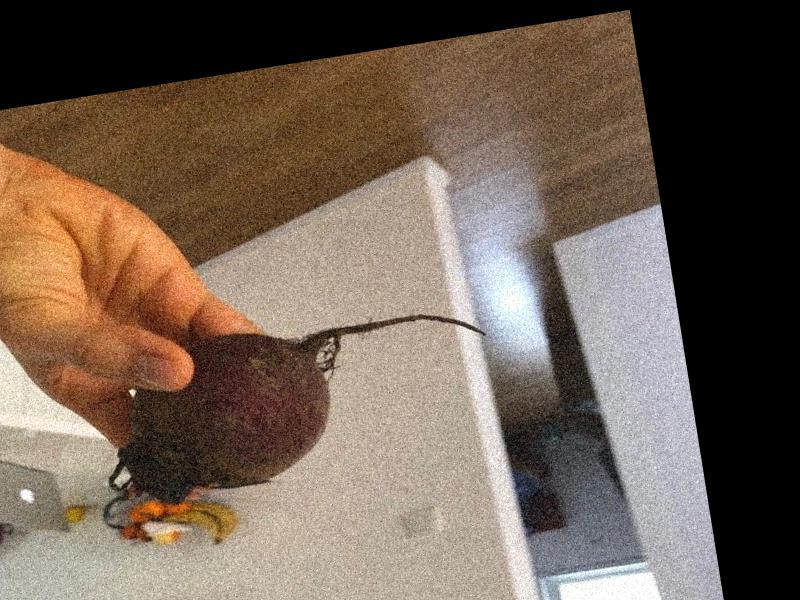Beet: (90, 295, 505, 511)
